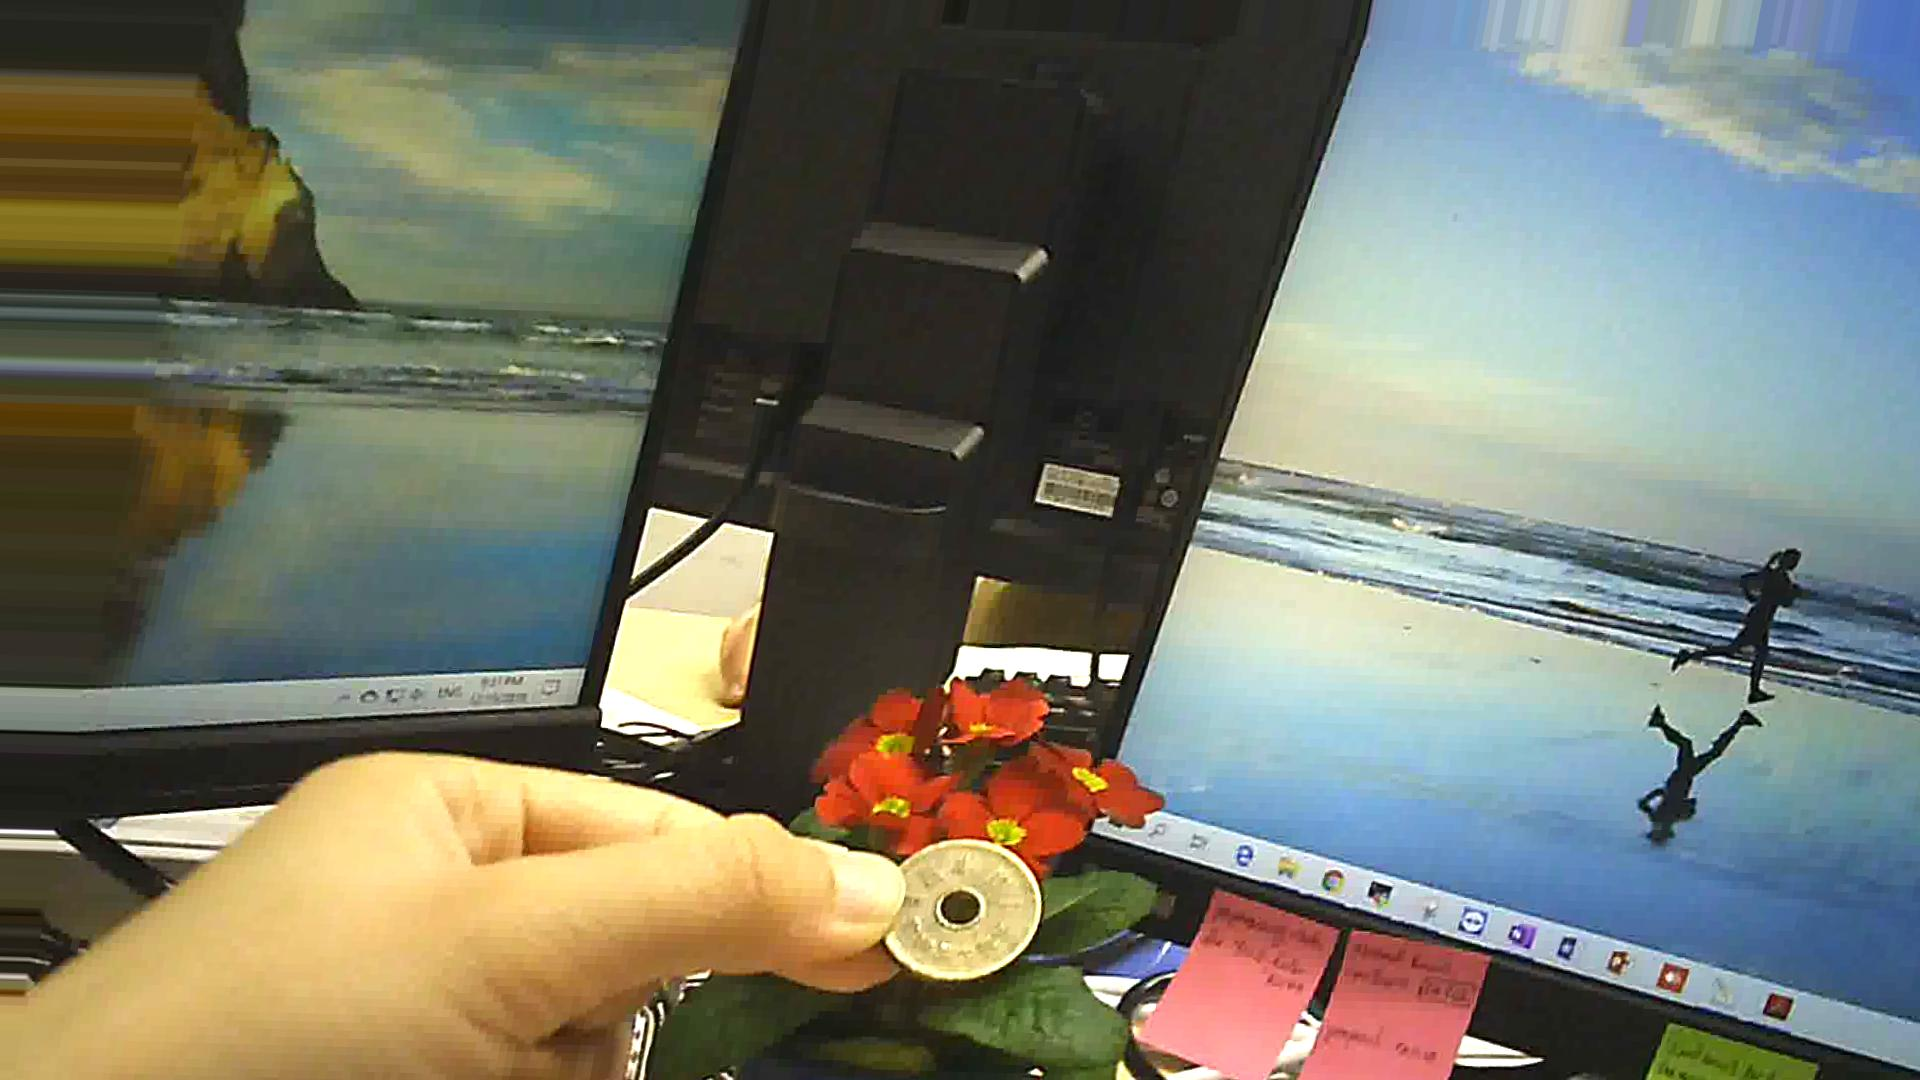5 Yen: (874, 825, 1047, 986)
